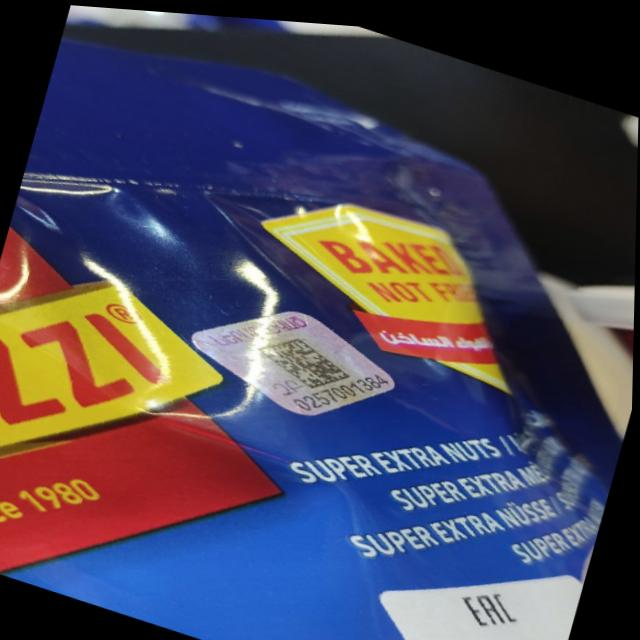datamatrix: (250, 321, 366, 398)
